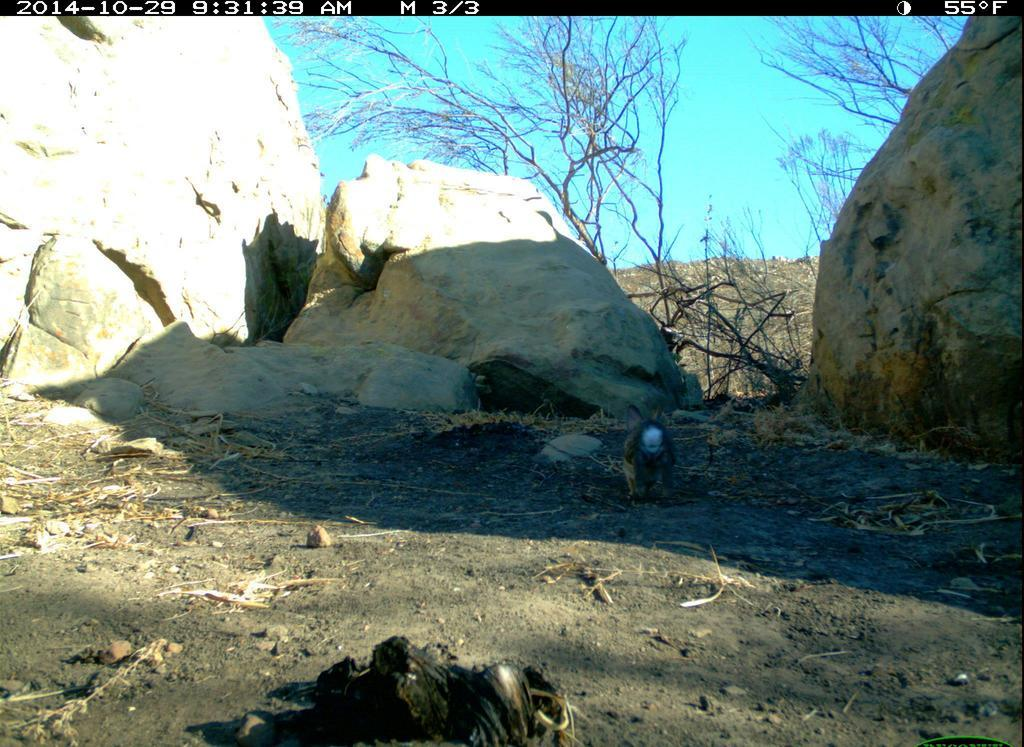rabbit: (600, 405, 685, 515)
